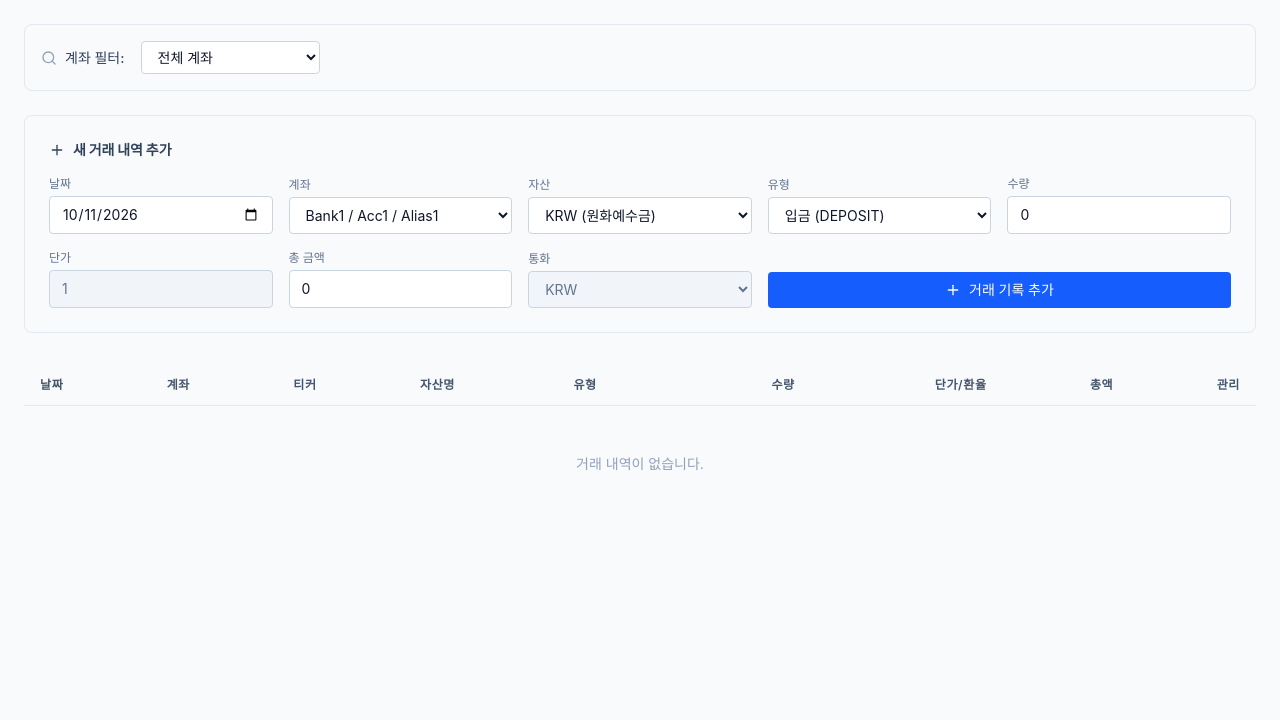
Test case: TransactionsTab › 환전(EXCHANGE) 선택 시 Ticker 기반 라벨 변경, readOnly 비활성화 및 지불 금액 실시간 자동계산이 적용되어야 한다
Expected: the button "거래 기록 추가" is shown, [768, 272, 1231, 308]
Select "환전 (EXCHANGE)" in the 4th dropdown named "type" at (880, 216), box [768, 197, 991, 234]
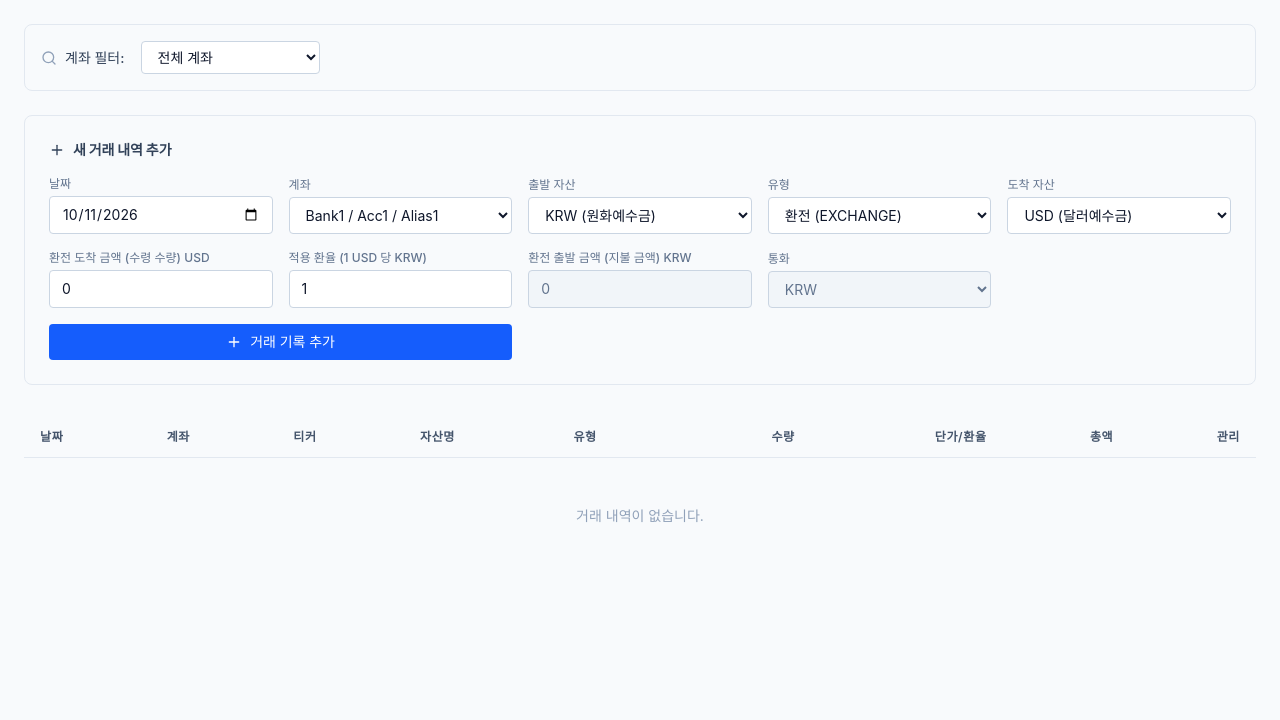
Select "USD (달러예수금)" in the dropdown named "target_asset_id" below "도착 자산" at (1119, 216), box [1007, 197, 1231, 234]
Expected: the text "환전 도착 금액 (수령 수량) USD" is shown, [49, 250, 210, 265]
Expected: the text "적용 환율 (1 USD 당 KRW)" is shown, [289, 250, 427, 265]
Expected: the text "환전 출발 금액 (지불 금액) KRW" is shown, [528, 250, 692, 265]
Replace the text in the field named "quantity" below "환전 도착 금액 (수령 수량) USD" with "500" at (161, 289), box [49, 270, 273, 308]
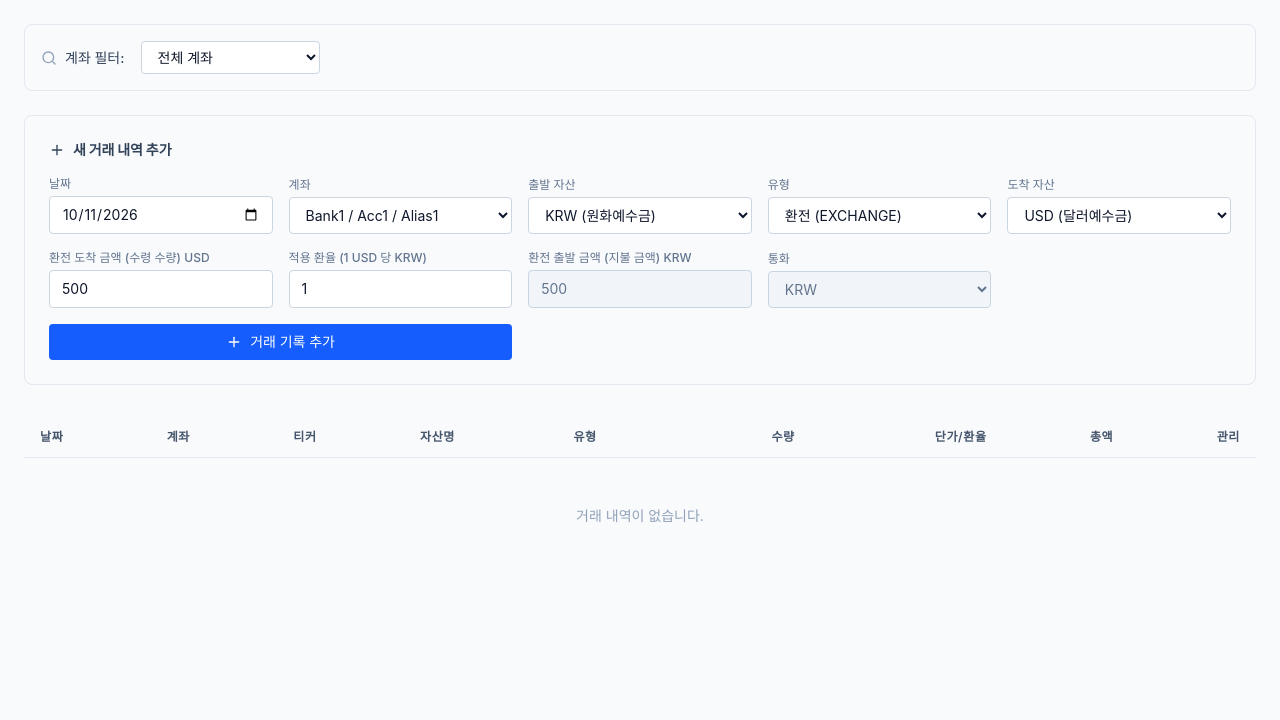
Replace the text in the field named "price" below "적용 환율 (1 USD 당 KRW)" with "1,300" at (400, 289), box [289, 270, 512, 308]
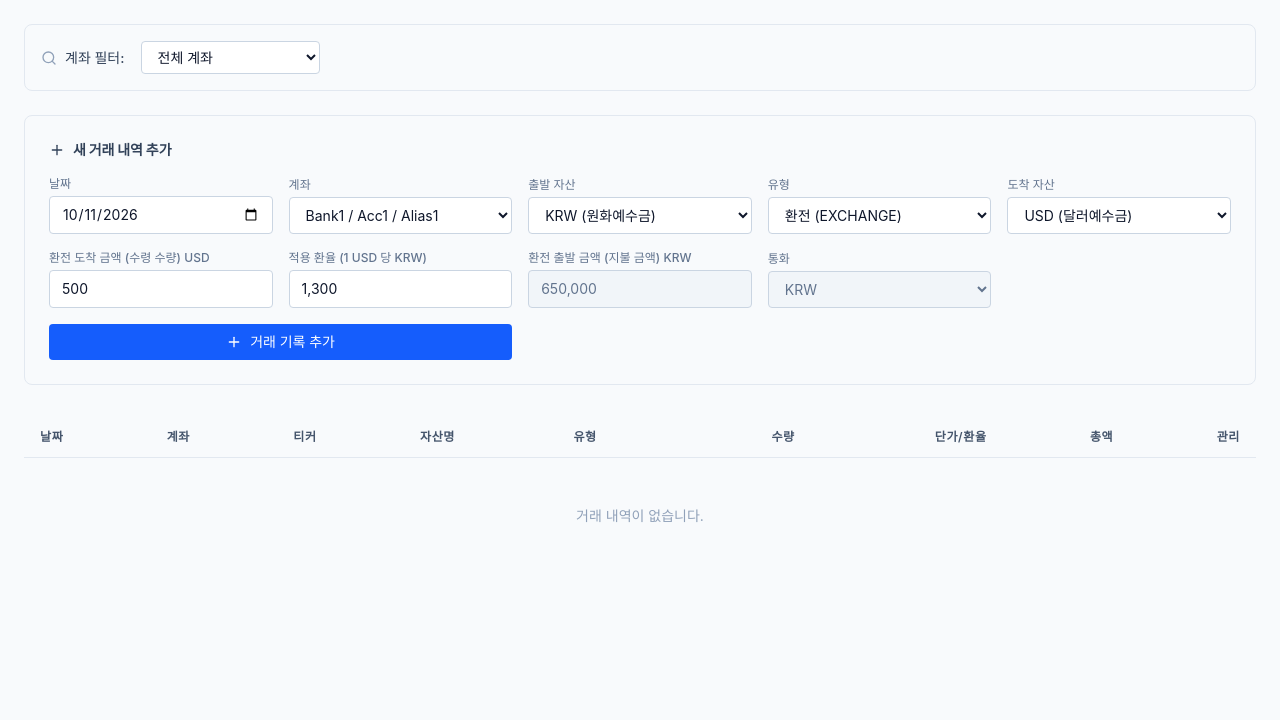
Expected: the field named "total_amount" below "환전 출발 금액 (지불 금액) KRW" holds "650,000", [528, 270, 752, 308]
